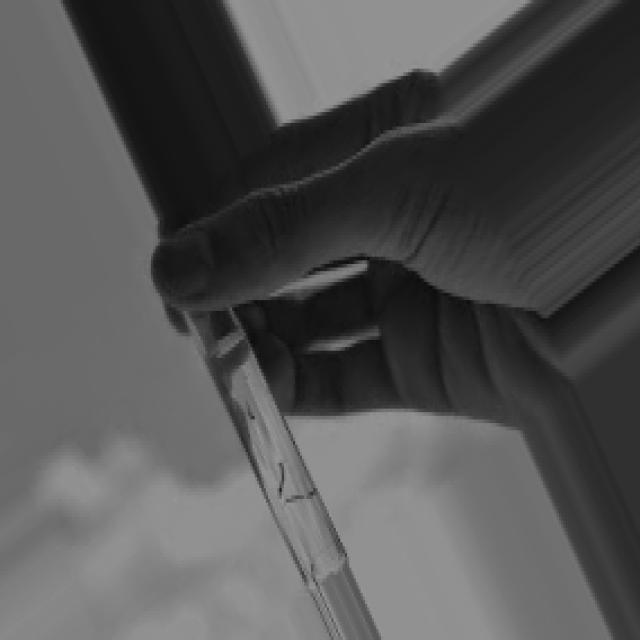larvas: (290, 487, 316, 506), (245, 401, 257, 422)
